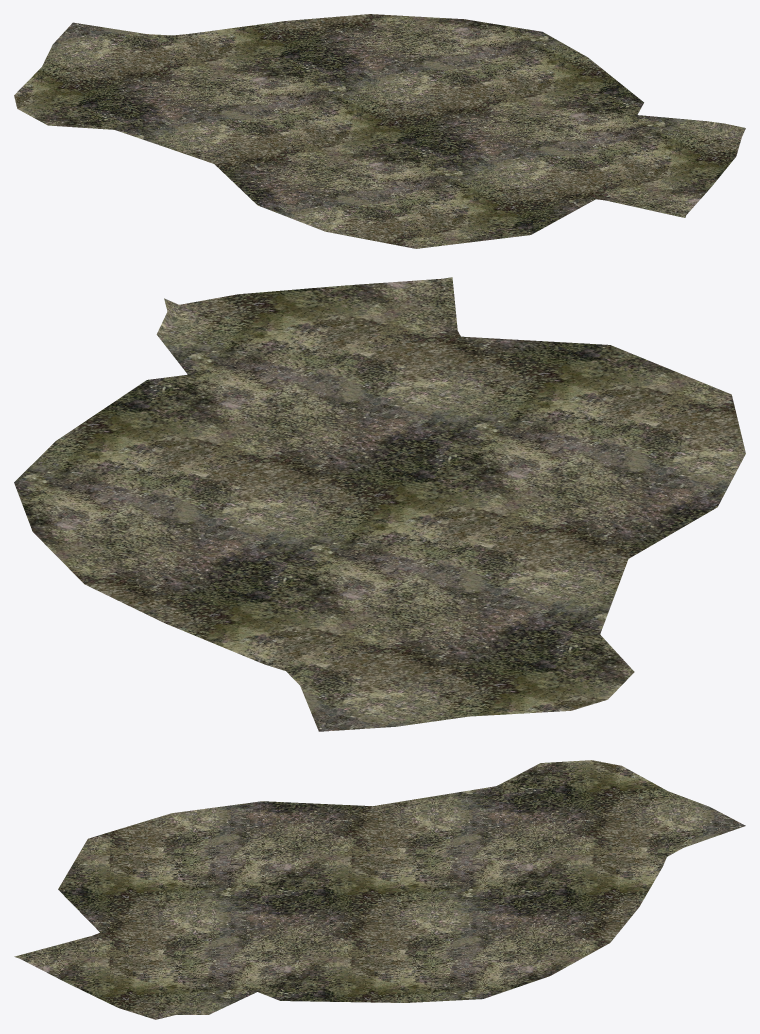
File: Farm_1.DAE
3 views of the same model, one above another, from view 1: azimuth 30°, elevation 25°; view 2: azimuth 150°, elevation 25°; view 3: azimuth 270°, elevation 25° (orthographic). The views are drawn at different scales.
Visible parts, largest first — view 1: farm_1; view 2: farm_1; view 3: farm_1.
Boxes of the visible parts, bbox=[...] form: farm_1: bbox=[14, 14, 745, 248]; farm_1: bbox=[14, 277, 745, 731]; farm_1: bbox=[14, 760, 745, 1019].
Bounding box in the file's own units: 660 × 775 × 8.68.
Materials: 1 (1 with a texture image).
